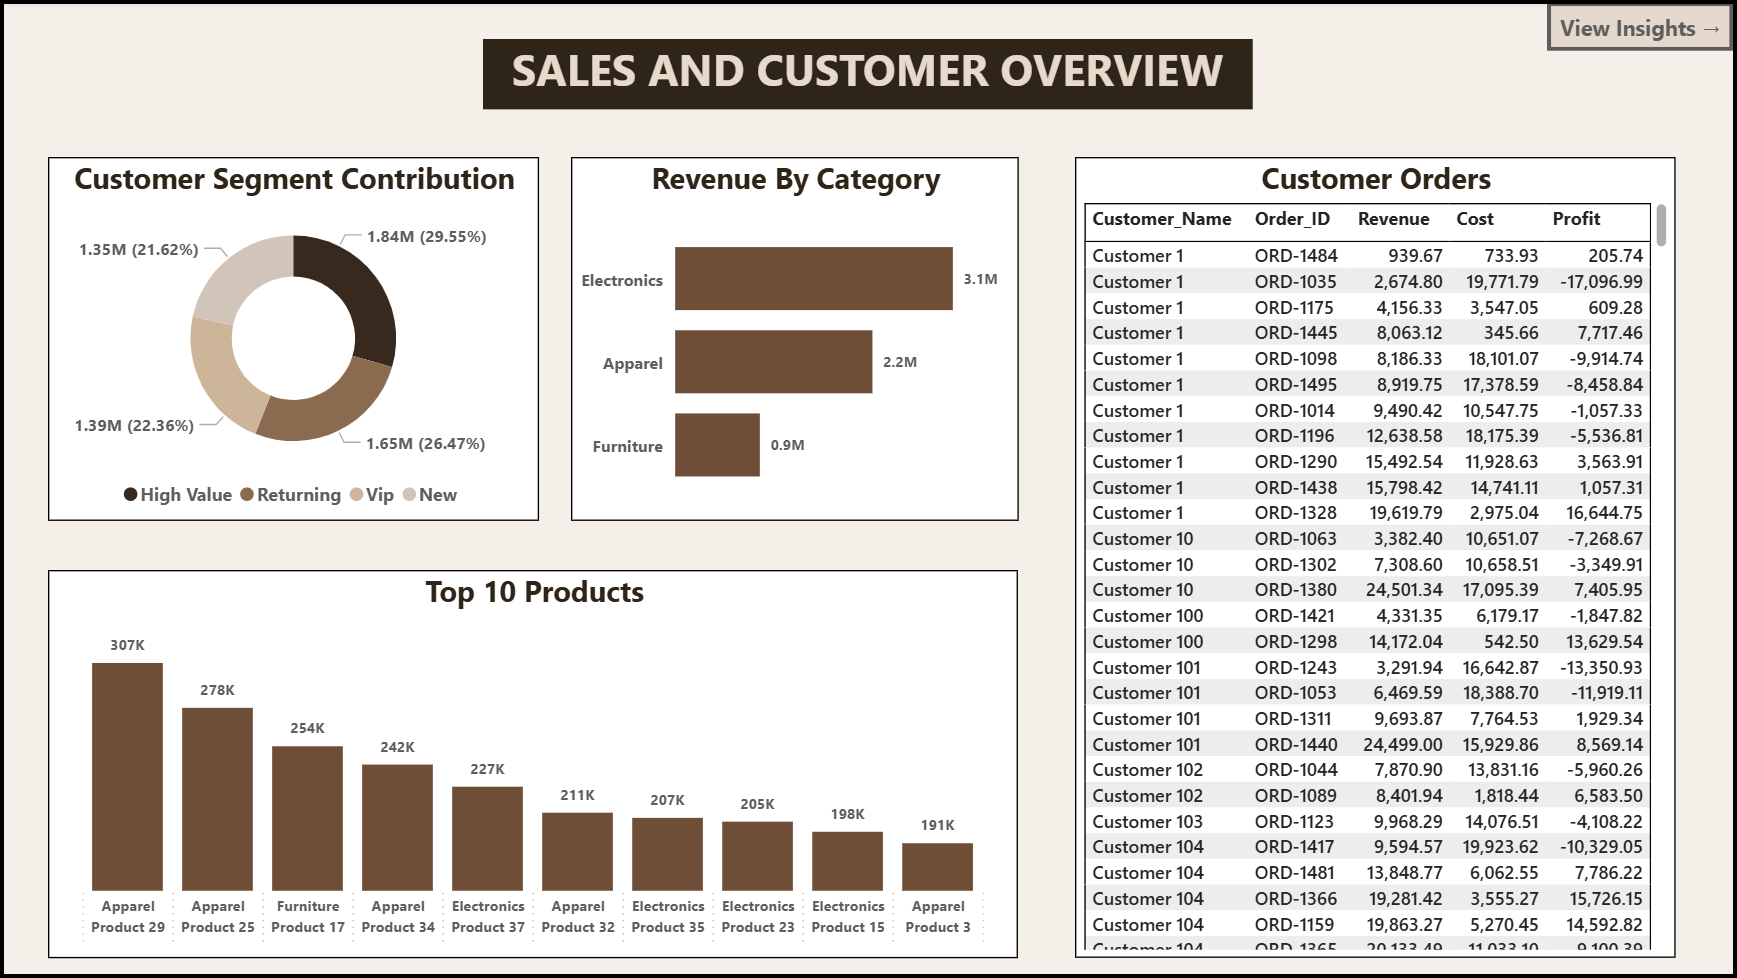

This screenshot's page, from the dashboard's own definition file:
{"tool":"powerbi","page":{"name":"Sales and Customer Overview","canvas":[1280,720],"ordinal":2},"visuals":[{"type":"barChart","title":"Revenue By Category","fields":{"Category":["dim_product.Category"],"Y":["fact_sales.Total Revenue"]},"box":[420.4,114.7,330.7,269.3],"z":0},{"type":"clusteredColumnChart","title":"Top 10 Products","fields":{"Category":["dim_product.Product_Name","dim_product.Category"],"Y":["fact_sales.Total Revenue"]},"box":[33.8,419.6,717.3,287.1],"z":1000},{"type":"donutChart","title":"Customer Segment Contribution","fields":{"Category":["dim_customer.Customer_Segment"],"Y":["fact_sales.Total Revenue"]},"box":[33.8,114.7,362.7,269.3],"z":2000},{"type":"tableEx","title":"Customer Orders","fields":{"Values":["dim_customer.Customer_Name","fact_sales.Order_ID","fact_sales.Revenue","fact_sales.Cost","fact_sales.Profit"]},"box":[792.9,114.7,443.6,592],"z":3000},{"type":"textbox","title":"SALES AND CUSTOMER OVERVIEW","box":[355.6,27.6,568.9,52.4],"z":4000},{"type":"actionButton","title":"← Back to Dashboard","box":[1142.2,0,137.8,36.2],"z":4001}]}

Visuals, with their boxes in screenshot pixels (x1, y1, x2, y2), scaled from the page's 1280x720 canvas onto the 1737x978 screenshot:
"Revenue By Category" barChart: rect(570, 156, 1019, 522)
"Top 10 Products" clusteredColumnChart: rect(46, 570, 1019, 960)
"Customer Segment Contribution" donutChart: rect(46, 156, 538, 522)
"Customer Orders" tableEx: rect(1076, 156, 1678, 960)
"SALES AND CUSTOMER OVERVIEW" textbox: rect(483, 37, 1255, 109)
"← Back to Dashboard" actionButton: rect(1550, 0, 1736, 49)
